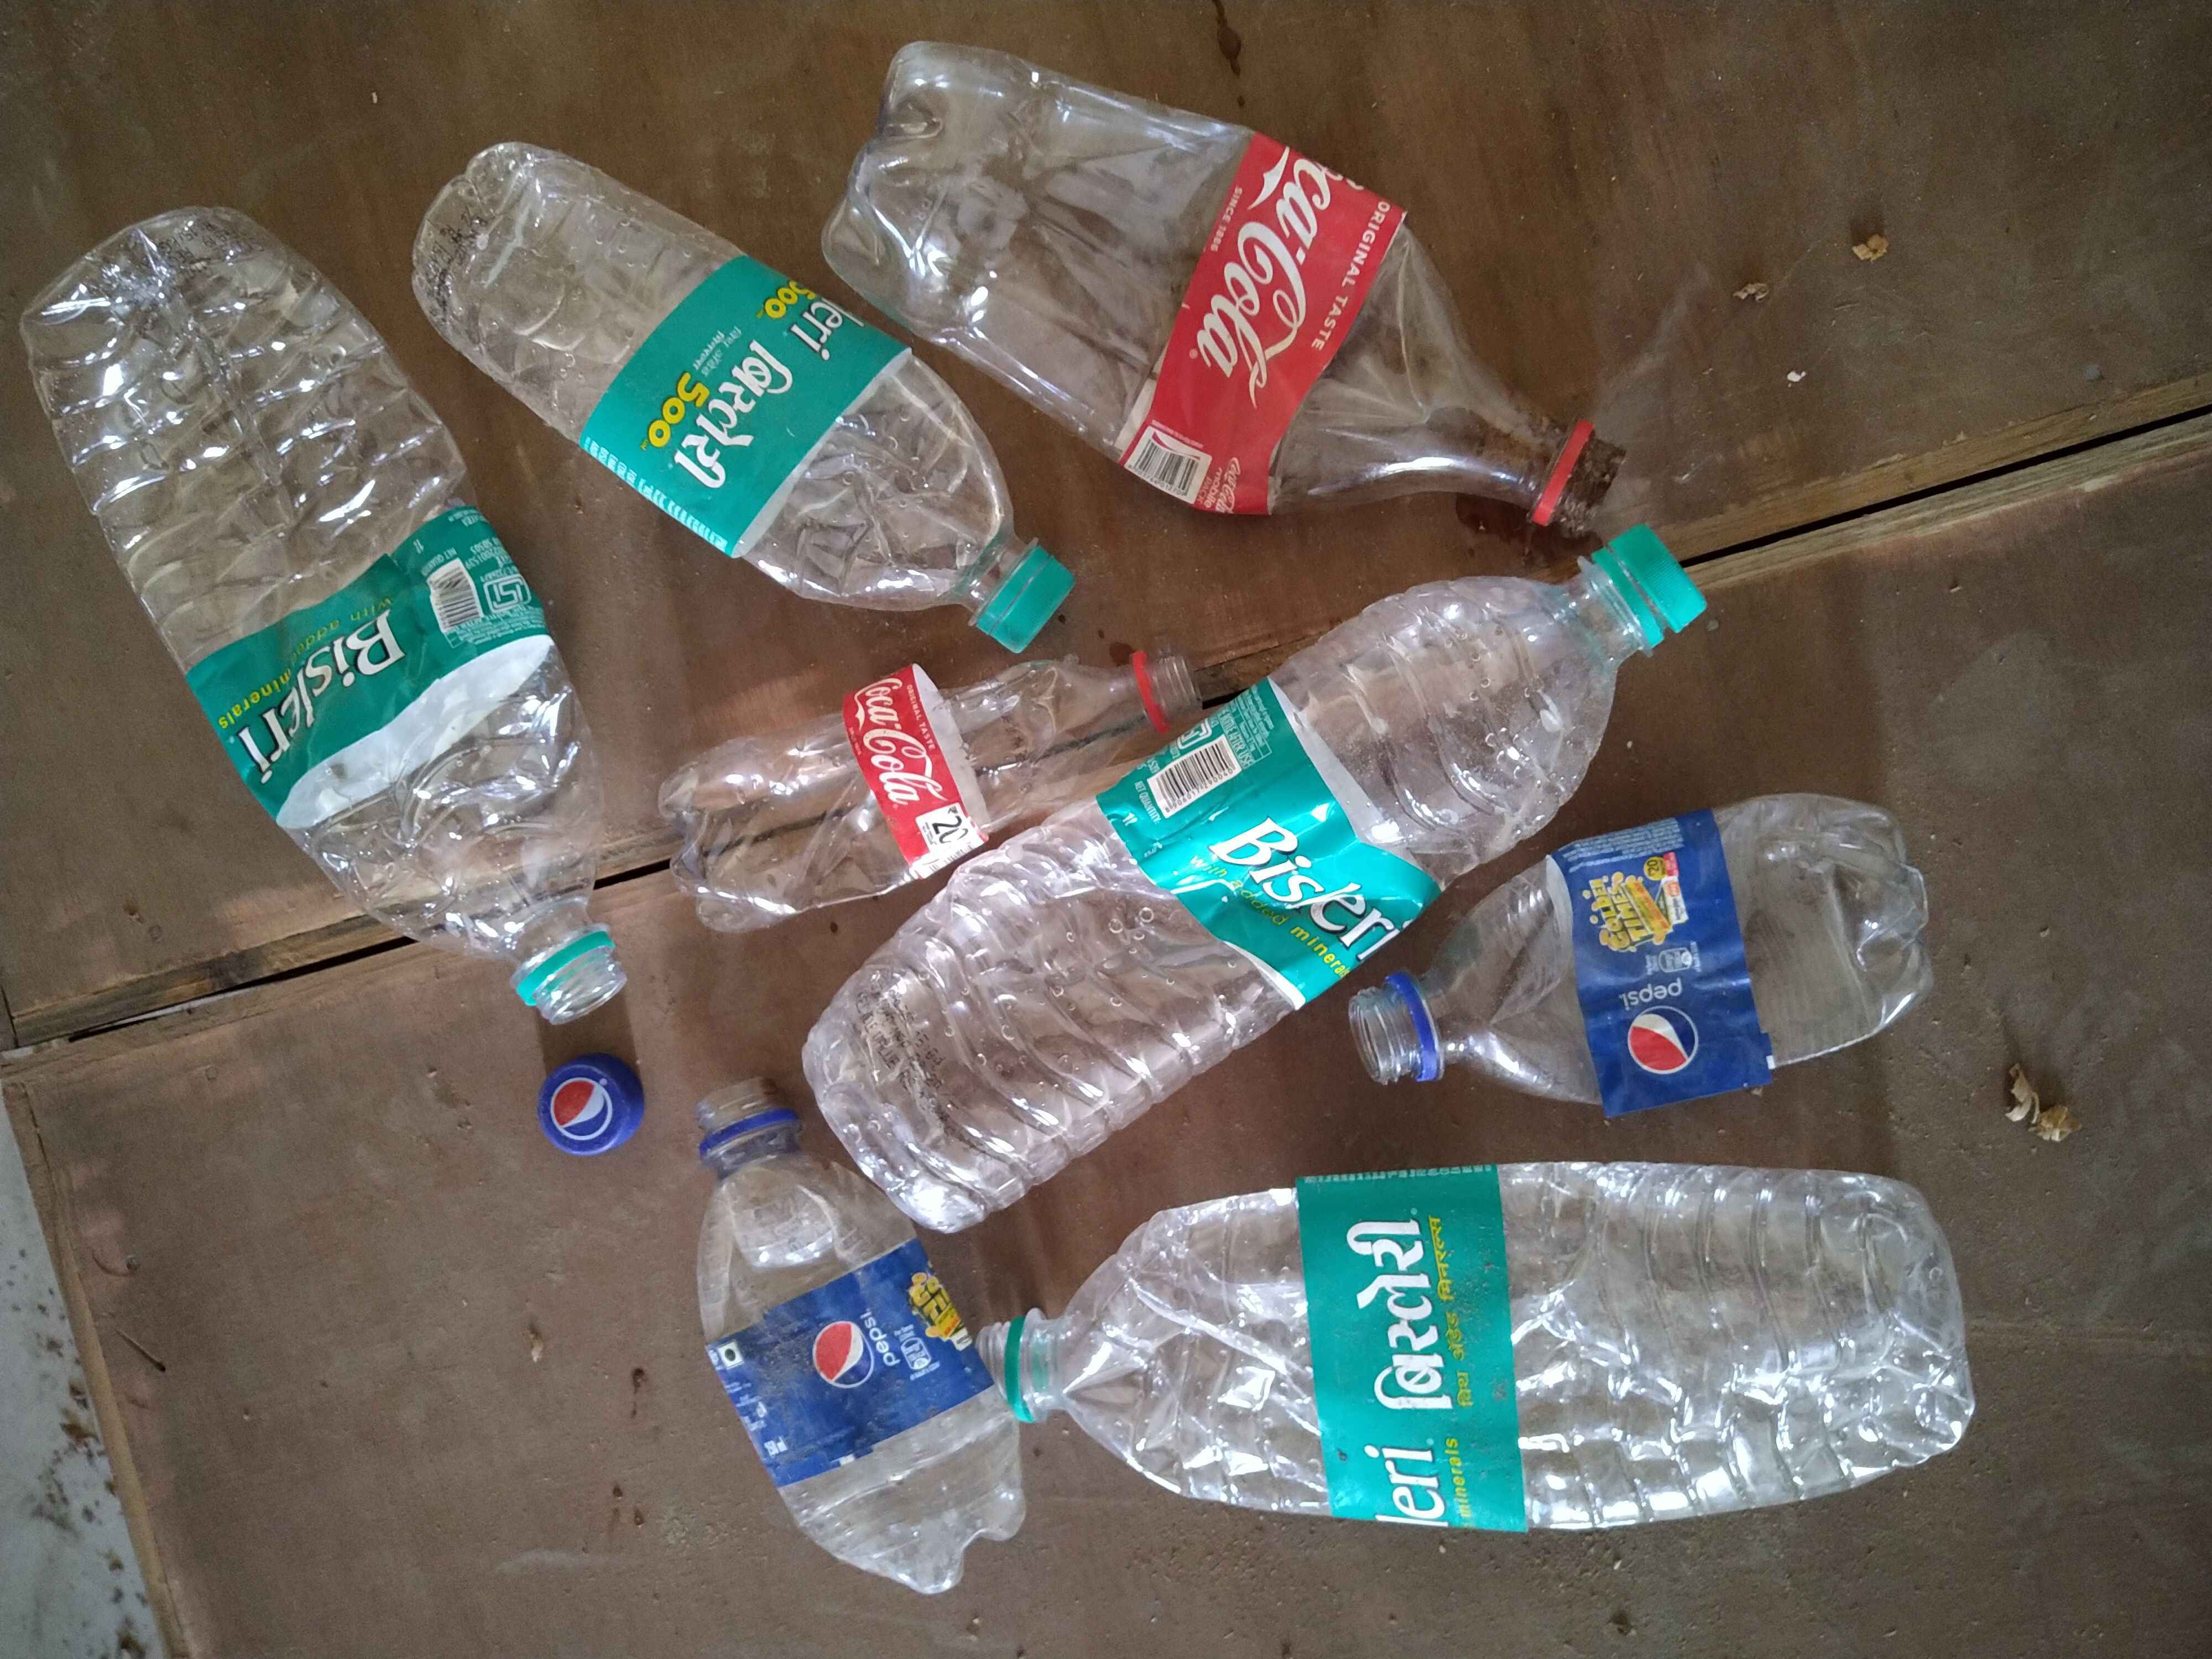Bisleri: (1305, 1180, 1510, 1516), (1179, 758, 1439, 985), (631, 268, 873, 477), (249, 584, 437, 803)
Coca-Cola: (1179, 132, 1369, 429), (841, 667, 968, 835)
pepsi: (1604, 948, 1747, 1084), (806, 1288, 900, 1445), (540, 1075, 631, 1145)
